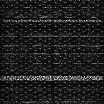lte: (1, 75, 104, 80), (1, 18, 104, 22), (1, 34, 104, 37)
